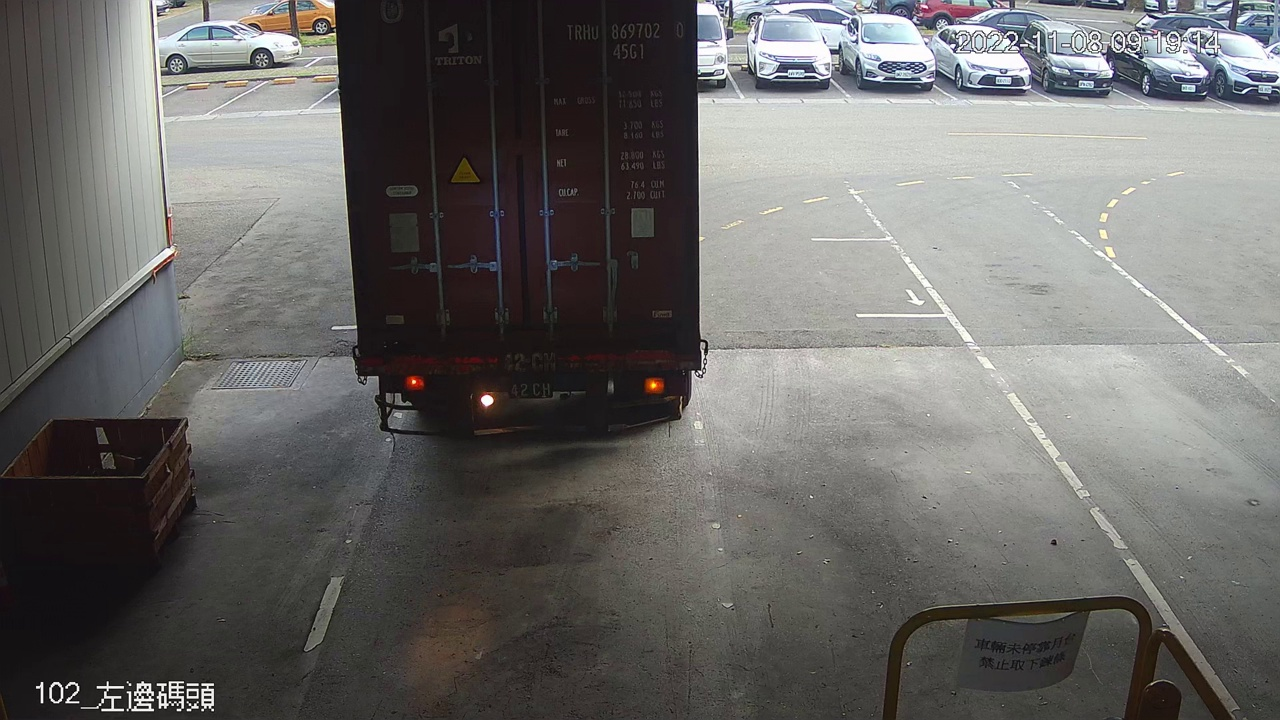container: (556, 12, 690, 69)
